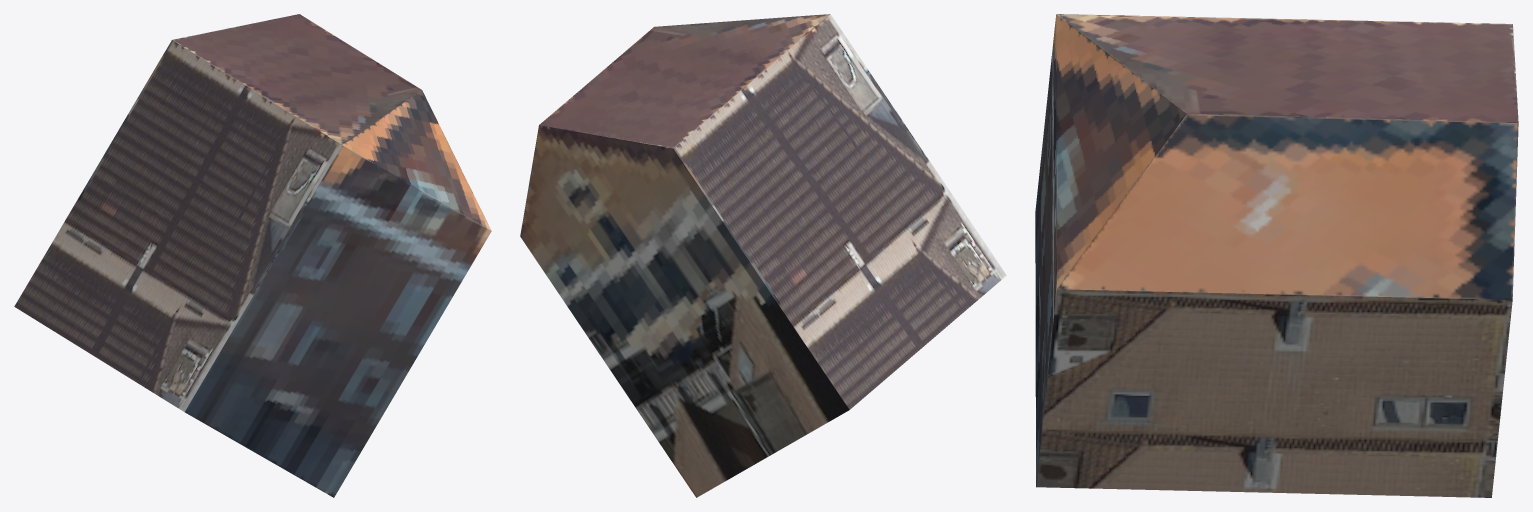
3 views of the same model, side by side, from view 1: azimuth 30°, elevation 25°; view 2: azimuth 150°, elevation 25°; view 3: azimuth 270°, elevation 25° (orthographic). The views are drawn at different scales.
Parts seen in each view (by area): view 1: BAG_0599100000760396 (×2); view 2: BAG_0599100000760396 (×2); view 3: BAG_0599100000760396 (×3).
Part boxes in pixels (bbox=[...]): BAG_0599100000760396 (×2): bbox=[14, 14, 491, 497]; BAG_0599100000760396 (×2): bbox=[520, 14, 1006, 497]; BAG_0599100000760396 (×3): bbox=[1035, 14, 1518, 497].
Size of the model in its own units: 13.51 by 14.18 by 12.42.
Materials: 3 (3 with a texture image).
